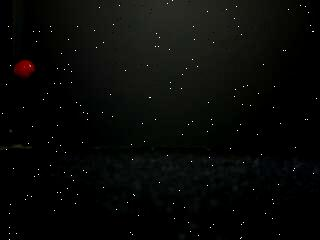Tomato: (12, 59, 40, 82)
